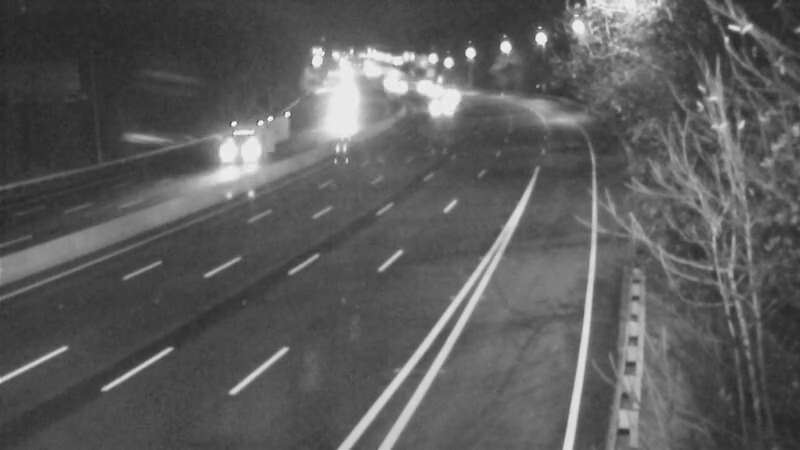vehicle: (373, 62, 423, 112), (394, 64, 444, 114), (411, 67, 461, 117), (426, 69, 476, 119), (416, 82, 466, 132), (214, 123, 264, 173), (315, 95, 365, 145)
